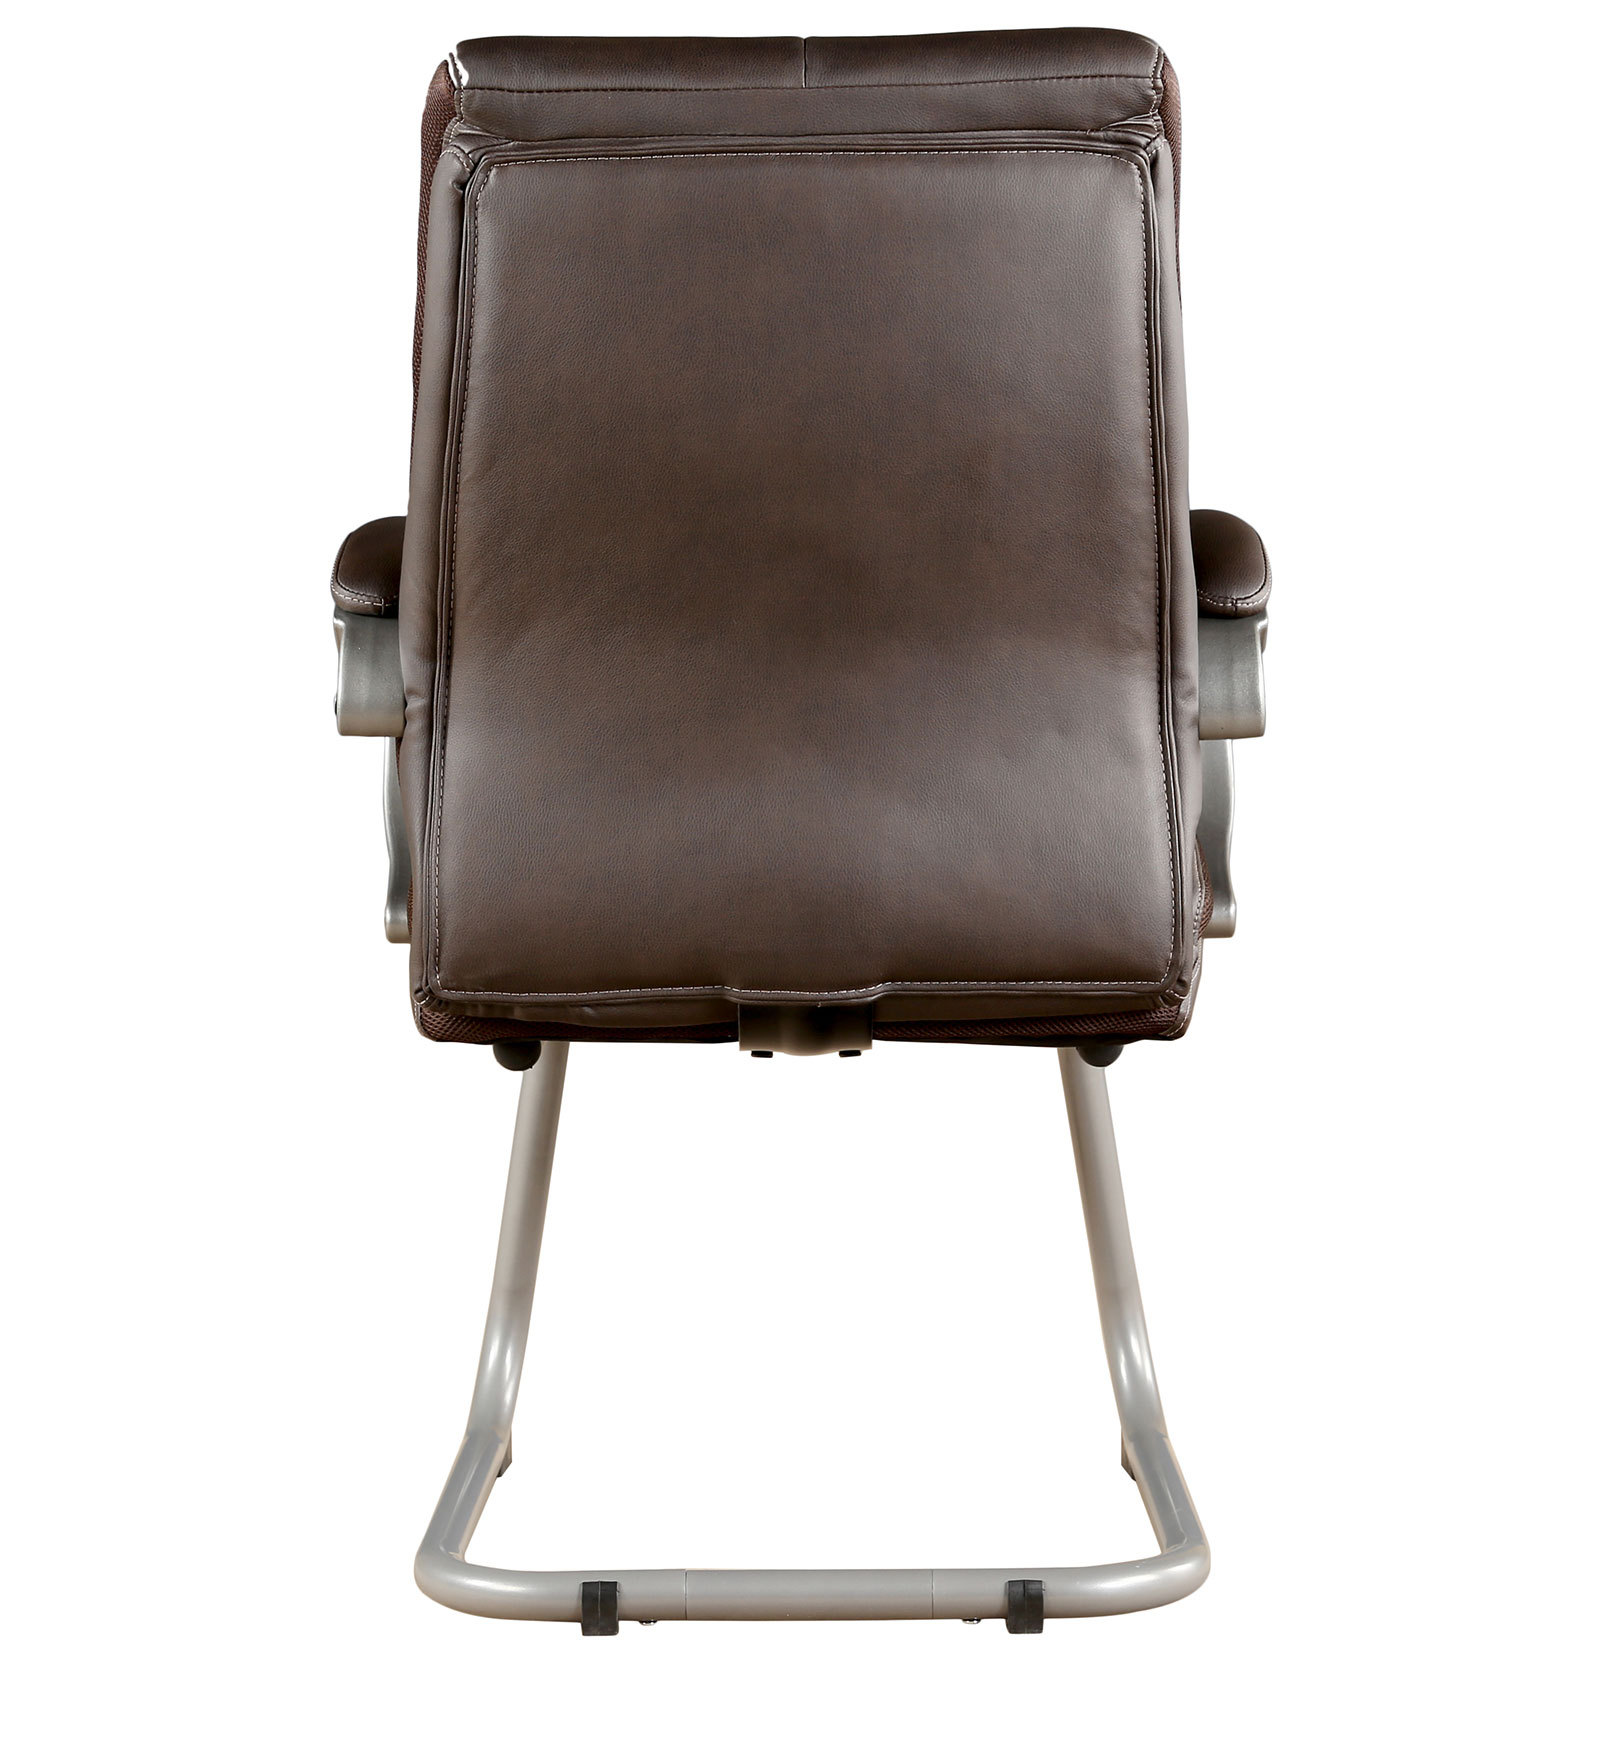Hugo Leatherette Ergonomic Chair by Hometown: (264, 12, 1309, 1699)
